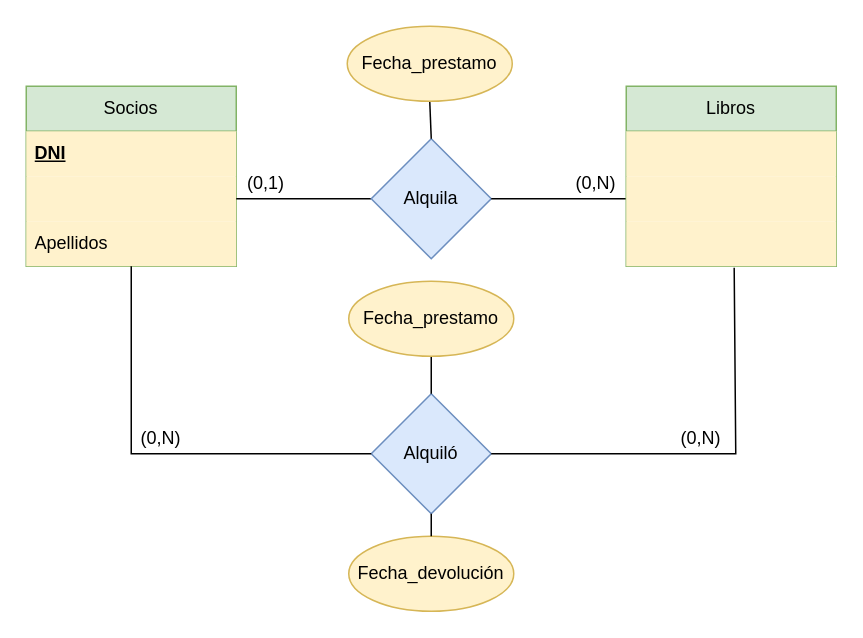
Some shapes in this 863 by 638 pixel diagram are drawn without their labels. Each missing label, with the centre of its shape:
Autor: the point at 731,243
Codigo: the point at 731,153
Nombre: the point at 131,198
Titulo: the point at 731,198
